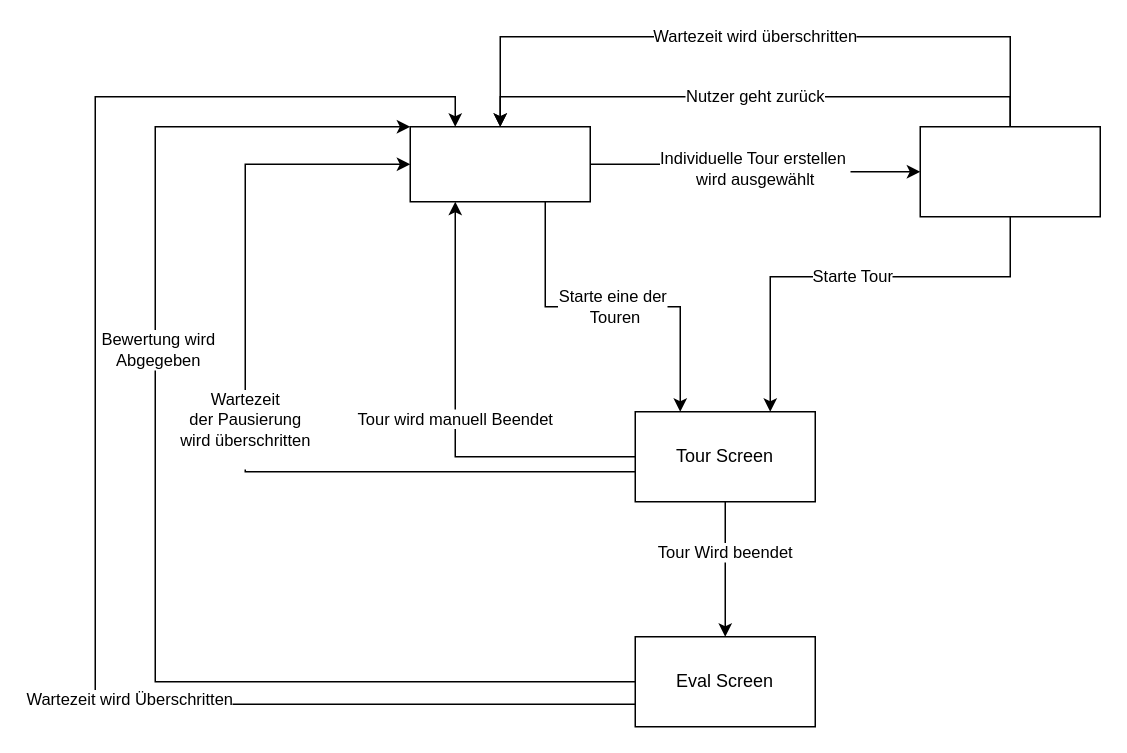
Image size: 1127x753. Some labels were removed from this diagram. Each missing label, with the centre of its shape:
"individual Tour" belongs at (x=1009, y=171).
"start" belongs at (x=499, y=163).
